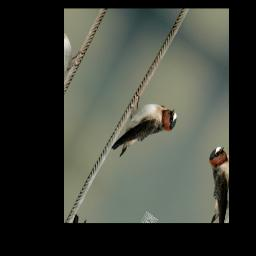Swallow: (107, 82, 184, 180)
